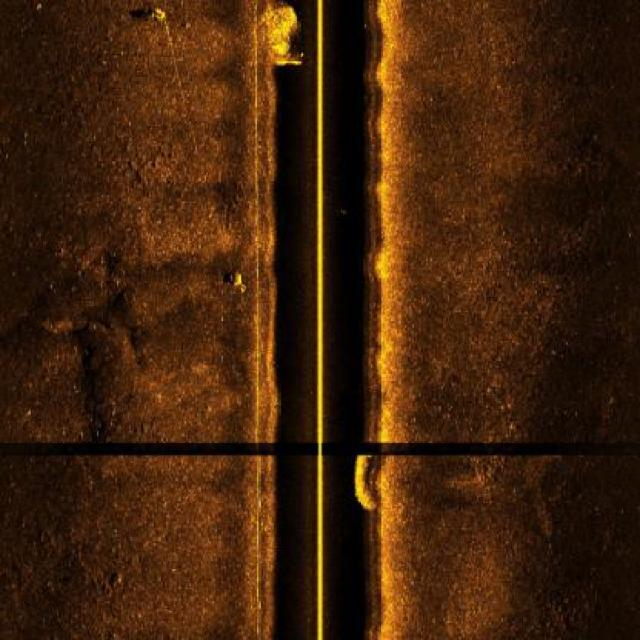mine: (226, 267, 251, 296), (148, 4, 170, 24)
